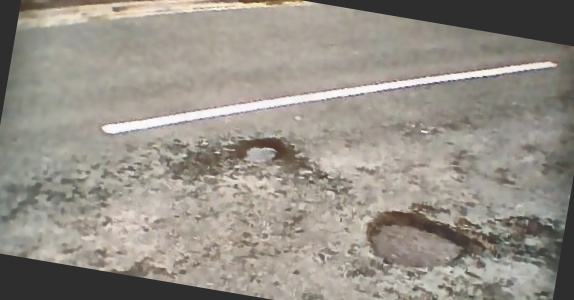pothole: (359, 202, 474, 280), (232, 129, 289, 172)
